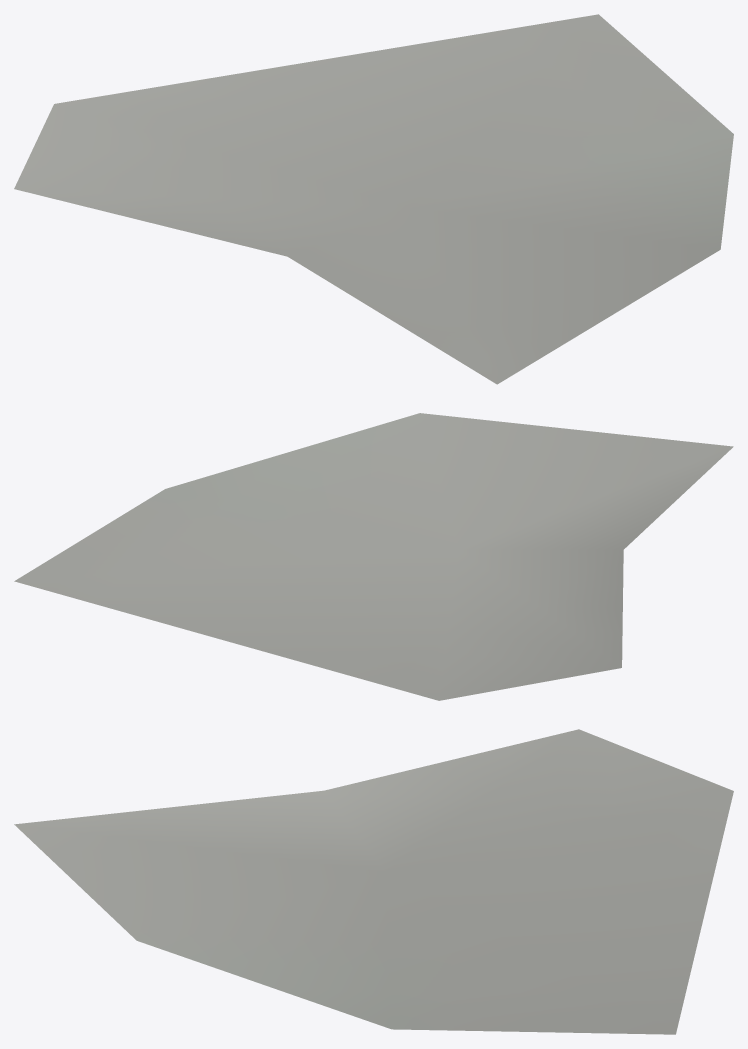
Rendered from midPoint-transformed.glb.
The picture shows the model from 3 angles, top to bottom: view 1: azimuth 30°, elevation 25°; view 2: azimuth 150°, elevation 25°; view 3: azimuth 270°, elevation 25°; orthographic projection. The views are drawn at different scales.
Visible parts, largest first — view 1: Tile_3.002; view 2: Tile_3.002; view 3: Tile_3.002.
Part boxes in pixels (bbox=[...]): Tile_3.002: bbox=[14, 14, 733, 384]; Tile_3.002: bbox=[14, 413, 733, 700]; Tile_3.002: bbox=[14, 729, 733, 1034].
Size of the model in its own units: 0.2844 by 0.00943 by 0.3006.
Materials: 1 (1 with a texture image).
